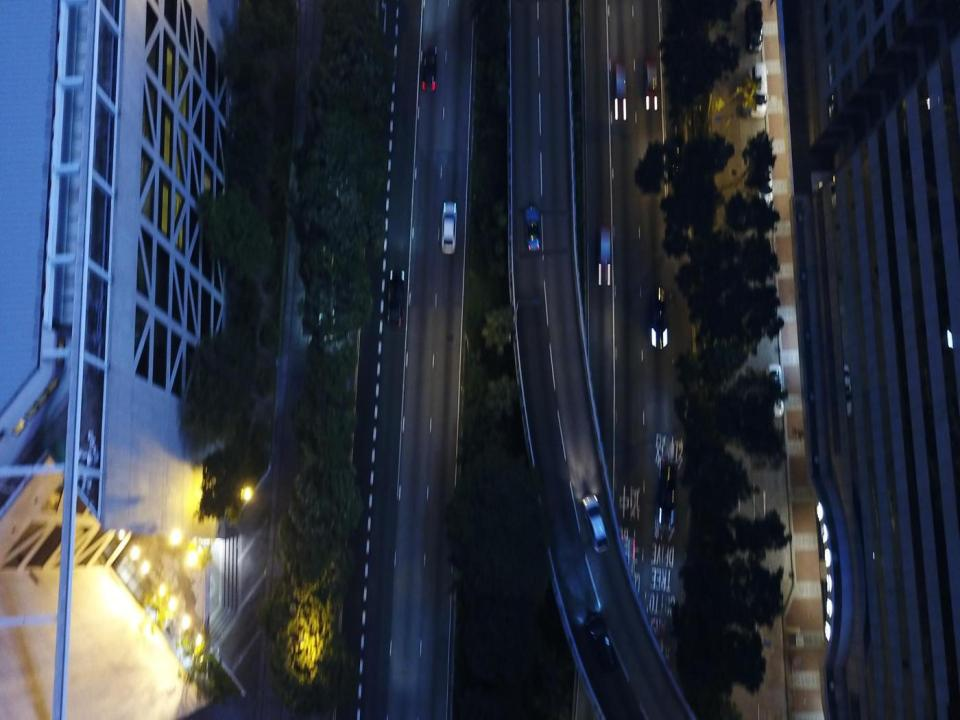bus: (583, 608, 642, 719)
car: (656, 459, 680, 526), (584, 494, 610, 554), (650, 285, 669, 346), (766, 362, 784, 415), (612, 65, 628, 120), (418, 48, 436, 95), (598, 226, 612, 286), (525, 206, 542, 252), (645, 61, 660, 112)
van: (750, 64, 769, 118), (754, 152, 772, 206), (440, 202, 458, 253)
